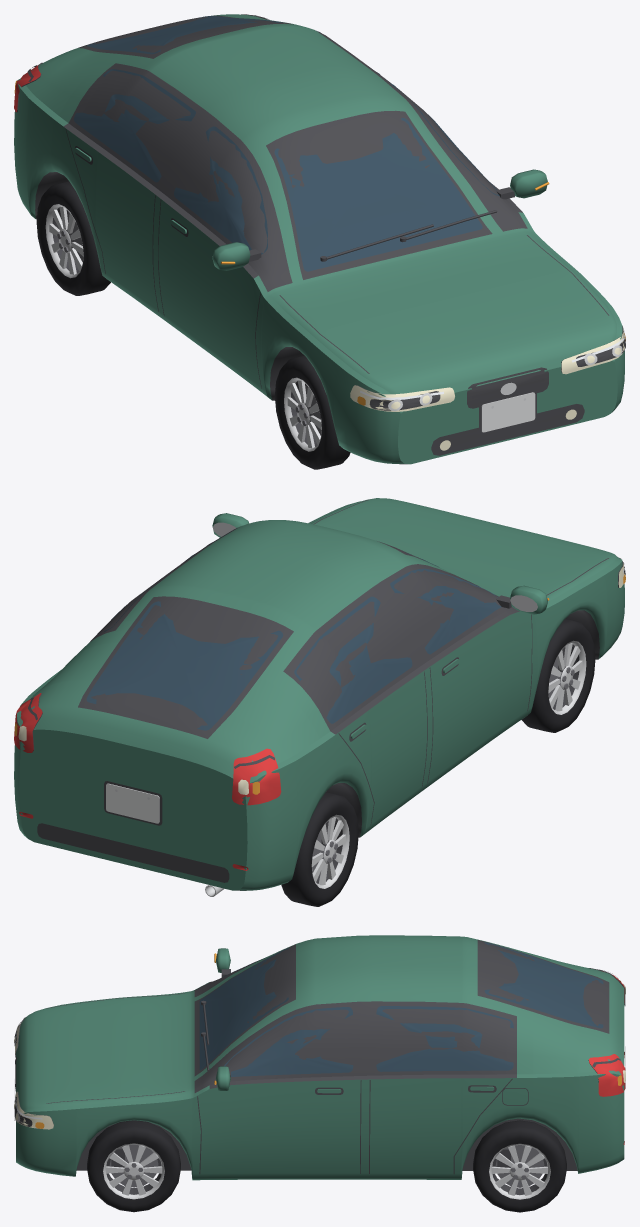
File: 354_close.fbx
3 renders of one model, top to bottom at view 1: azimuth 30°, elevation 25°; view 2: azimuth 150°, elevation 25°; view 3: azimuth 270°, elevation 25°, orthographic. The views are drawn at different scales.
Visible parts, largest first — view 1: 354_close; view 2: 354_close; view 3: 354_close.
Boxes of the visible parts, left/top/right/bottom form: 354_close: left=14, top=14, right=625, bottom=469; 354_close: left=14, top=498, right=625, bottom=906; 354_close: left=14, top=935, right=625, bottom=1212.
Size of the model in its own units: 2.05 by 1.5 by 4.04.
